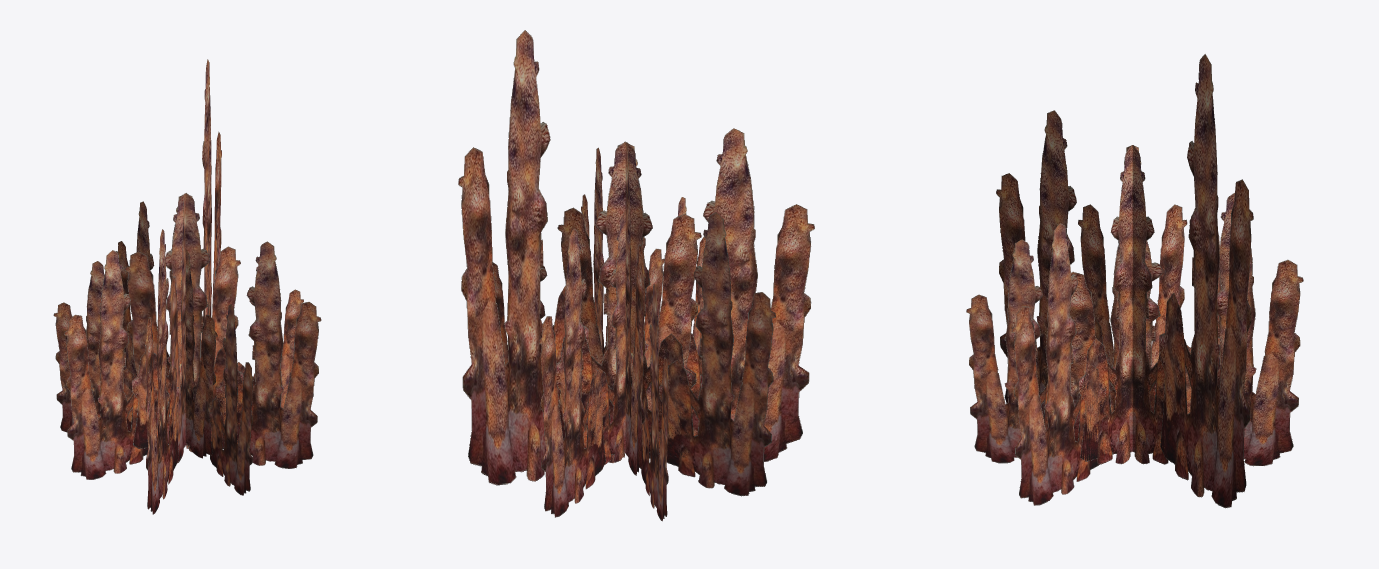
The model's file is PillarCoral.FBX.
3 views of the same model, side by side, from view 1: azimuth 30°, elevation 25°; view 2: azimuth 150°, elevation 25°; view 3: azimuth 270°, elevation 25° (orthographic). The views are drawn at different scales.
Visible parts, largest first — view 1: PILLAR CORAL; view 2: PILLAR CORAL; view 3: PILLAR CORAL.
Part boxes in pixels (<box>): PILLAR CORAL: <box>53,59,321,514</box>; PILLAR CORAL: <box>458,30,814,521</box>; PILLAR CORAL: <box>966,54,1303,508</box>.
Bounding box in the file's own units: 23.6 × 26.41 × 23.6.
Materials: 1 (1 with a texture image).
